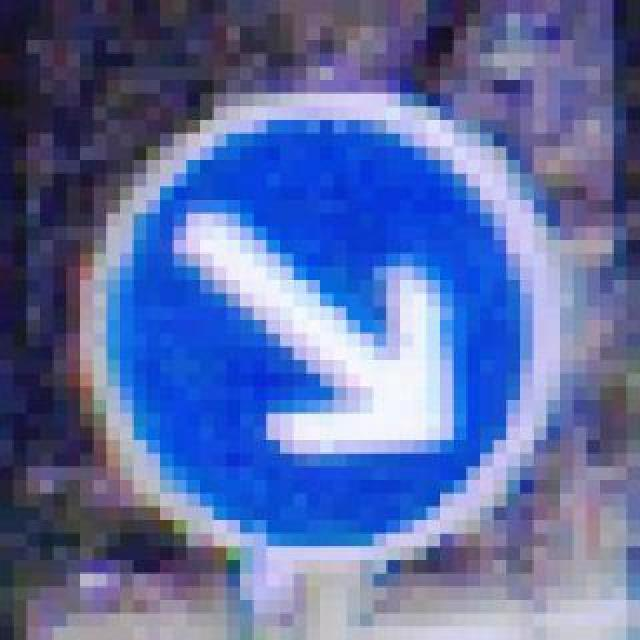keep right: (68, 80, 560, 560)
